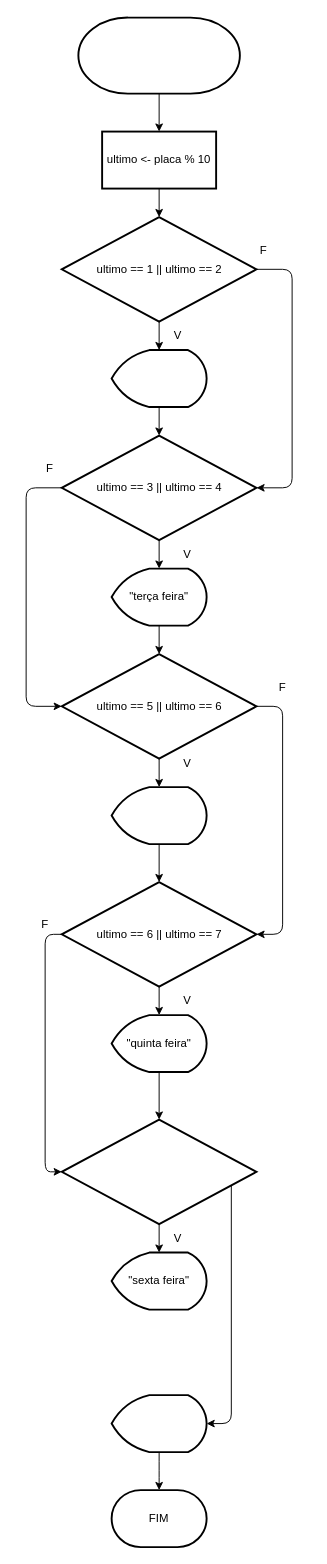
Image size: 327x1564. Some labels were removed from this diagram. Here are the shapes that lost their labels. From the top down, the box of each, then its label:
(77, 16, 240, 94): placa_carro(placa:inteiro)
(110, 349, 207, 408): "segunda-feira"
(110, 786, 207, 845): "quarta feira"
(60, 1118, 257, 1225): ultimo == 8 || ultimo == 9
(110, 1394, 207, 1453): "INSIRA UMA NOTA VÁLIDA"
